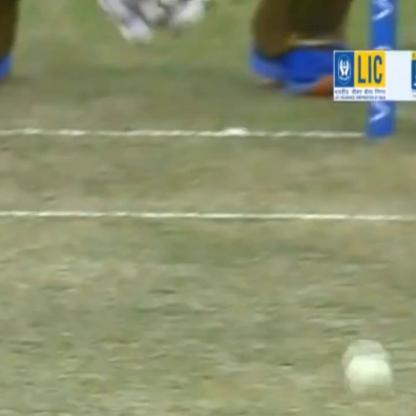ball: (346, 365, 397, 414), (335, 339, 392, 370)
